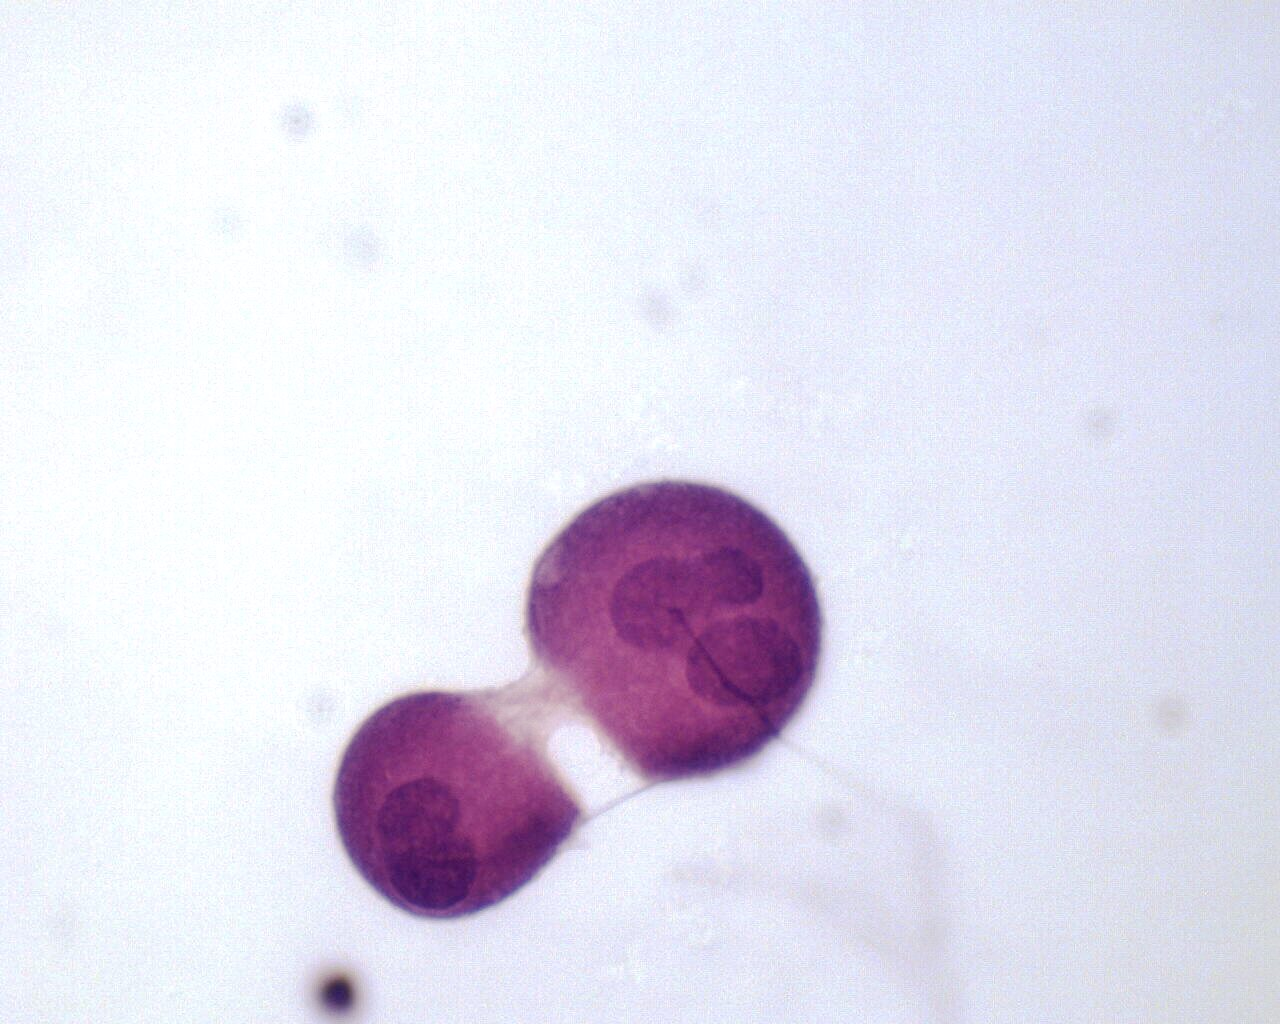ab: (522, 466, 823, 785), (330, 686, 564, 926)
